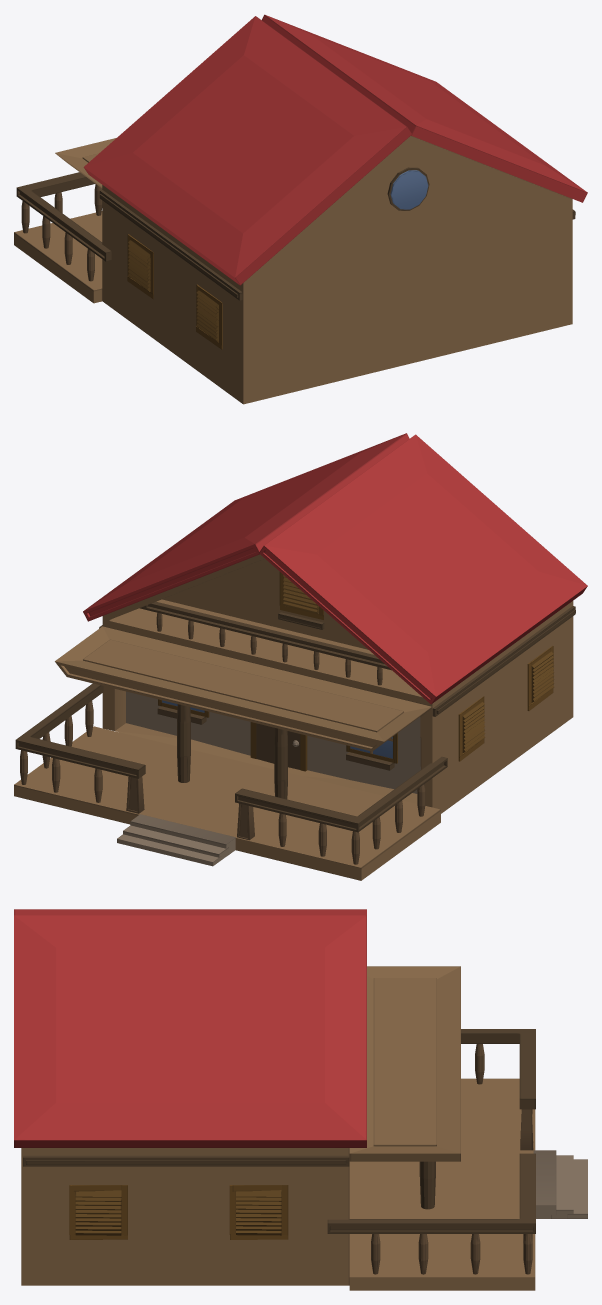
3 renders of one model, top to bottom at view 1: azimuth 30°, elevation 25°; view 2: azimuth 150°, elevation 25°; view 3: azimuth 270°, elevation 25°, orthographic. The views are drawn at different scales.
Parts seen in each view (by area): view 1: Node; view 2: Node; view 3: Node.
Part boxes in pixels (x1=…): Node: x1=14, y1=14, x2=587, y2=404; Node: x1=14, y1=433, x2=587, y2=880; Node: x1=14, y1=909, x2=587, y2=1290.
Bounding box in the file's own units: 735 × 487 × 889.
1 material, 1 textured.
